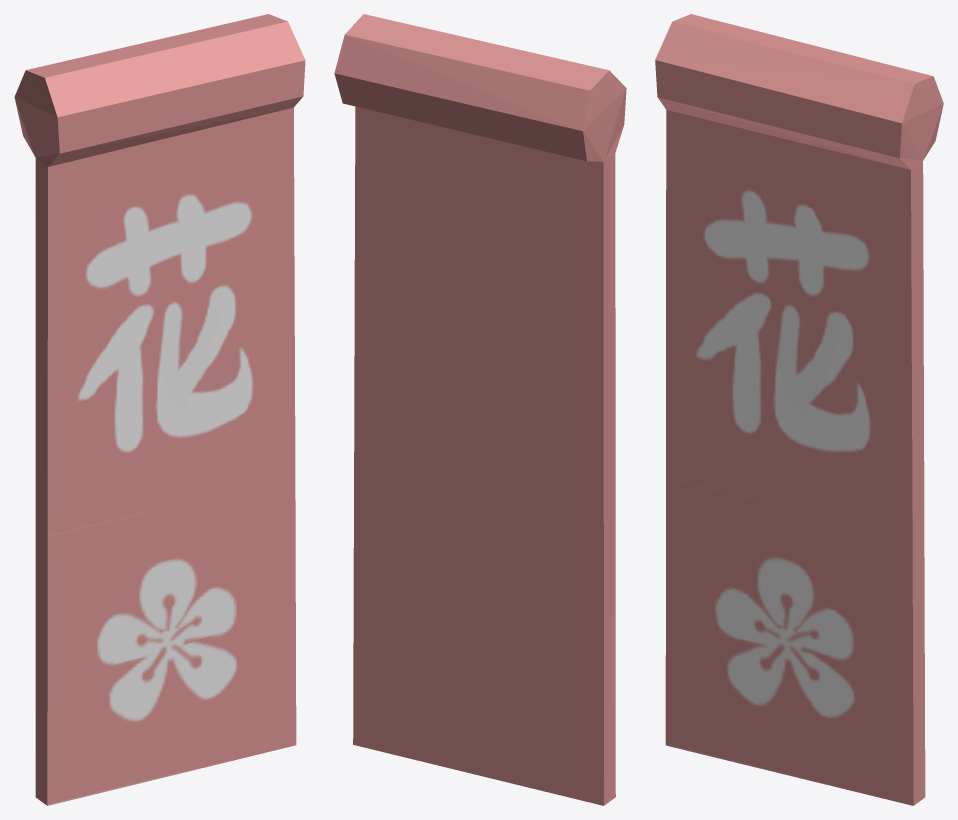
Rendered from MarketStall_Flag_Flower.fbx.
The picture shows the model from 3 angles, left to right: view 1: azimuth 30°, elevation 25°; view 2: azimuth 150°, elevation 25°; view 3: azimuth 330°, elevation 25°; orthographic projection.
Visible parts, largest first — view 1: MarketStall_Flag_Flower; view 2: MarketStall_Flag_Flower; view 3: MarketStall_Flag_Flower.
Part boxes in pixels (box(x1,y1,x2,y2)): MarketStall_Flag_Flower: box(14, 14, 305, 805); MarketStall_Flag_Flower: box(334, 14, 626, 805); MarketStall_Flag_Flower: box(655, 14, 943, 805).
Bounding box in the file's own units: 0.3827 × 1.06 × 0.1149.
Materials: 1 (1 with a texture image).
